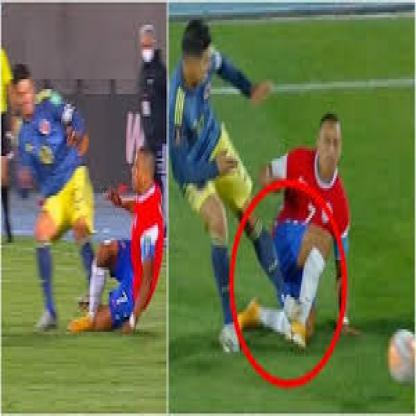Fall_Down: (64, 145, 165, 342)
